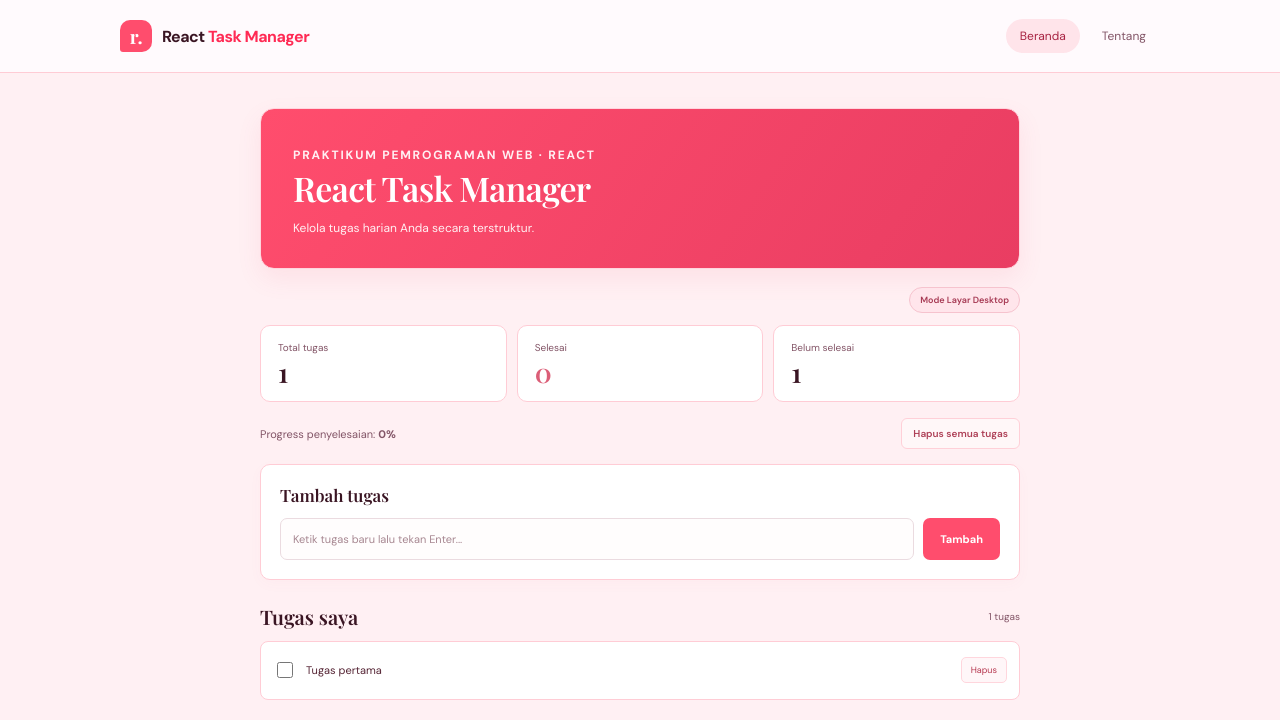
Test: React Task Manager module › clears all tasks only after confirmation
What coordinates should you click on to do the following:
click the button "Hapus semua tugas"
I would click on:
 (961, 434)
Its box is [901,418,1020,449].
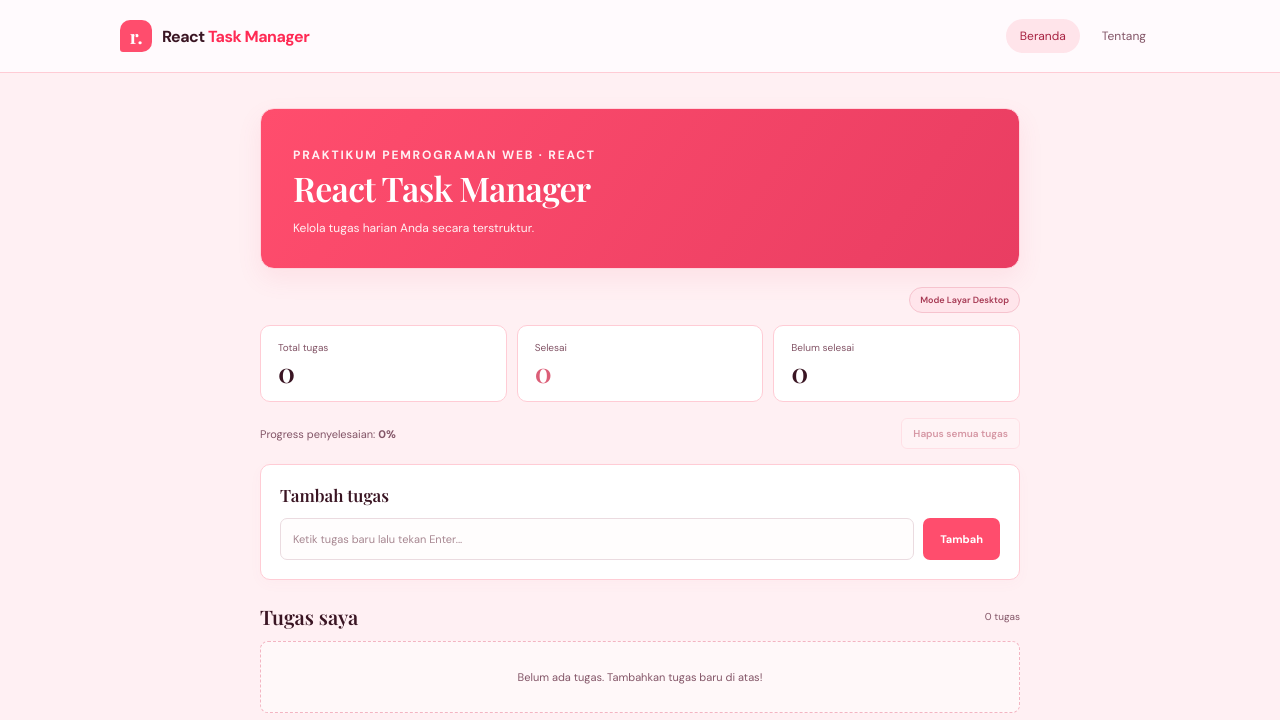
Expected: the text "Tugas pertama" is gone
